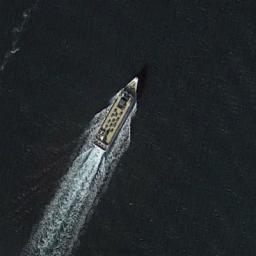boat: (92, 75, 139, 152)
